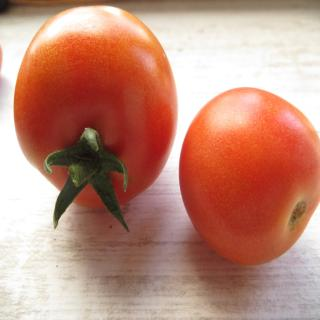tomato: (12, 5, 178, 234), (178, 85, 320, 268)
